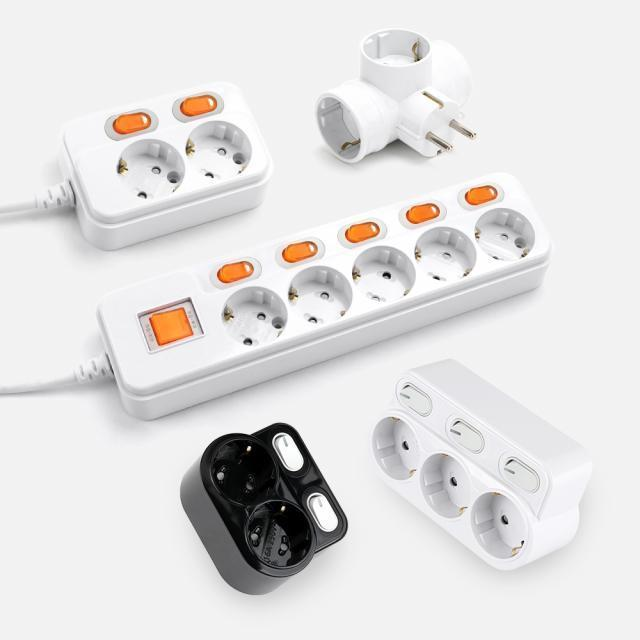typeb: (179, 341, 599, 623), (110, 173, 547, 416), (53, 75, 280, 243)
